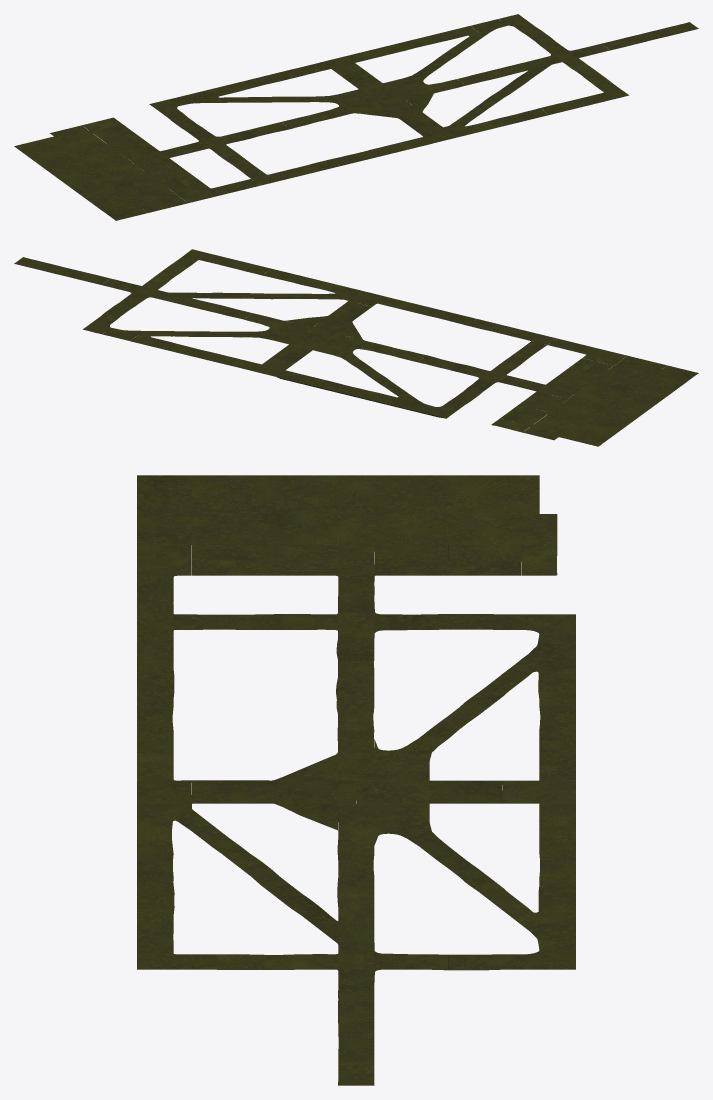
Rendered from grass.fbx.
3 views of the same model, one above another, from view 1: azimuth 30°, elevation 25°; view 2: azimuth 150°, elevation 25°; view 3: azimuth 270°, elevation 25° (orthographic). The views are drawn at different scales.
Parts seen in each view (by area): view 1: Combined Mesh (root: scene) 50_6; view 2: Combined Mesh (root: scene) 50_6; view 3: Combined Mesh (root: scene) 50_6.
Part boxes in pixels (x1,y1,x2,y2): Combined Mesh (root: scene) 50_6: (14,14,698,220); Combined Mesh (root: scene) 50_6: (14,249,698,446); Combined Mesh (root: scene) 50_6: (137,475,575,1085).
Size of the model in its own units: 10112 by 17.13 by 3073.
1 material, 1 textured.
